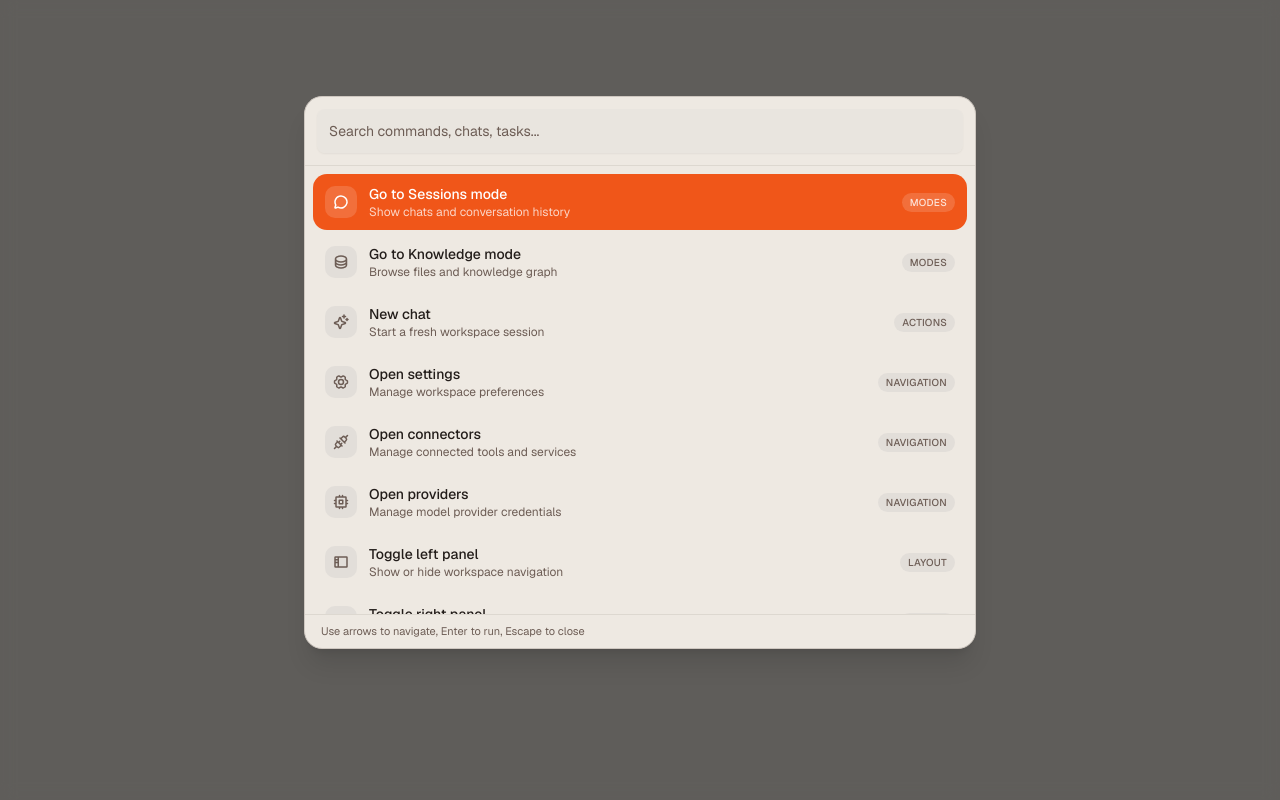
Test: WorkspaceCommandPalette › hides task commands and task search results when tasks are unavailable
This screenshot has width=1280, height=800.
Type "run" into the field with placeholder "Search commands, chats, tasks...".
click(640, 131); type("run")  # box [317,109,963,153]
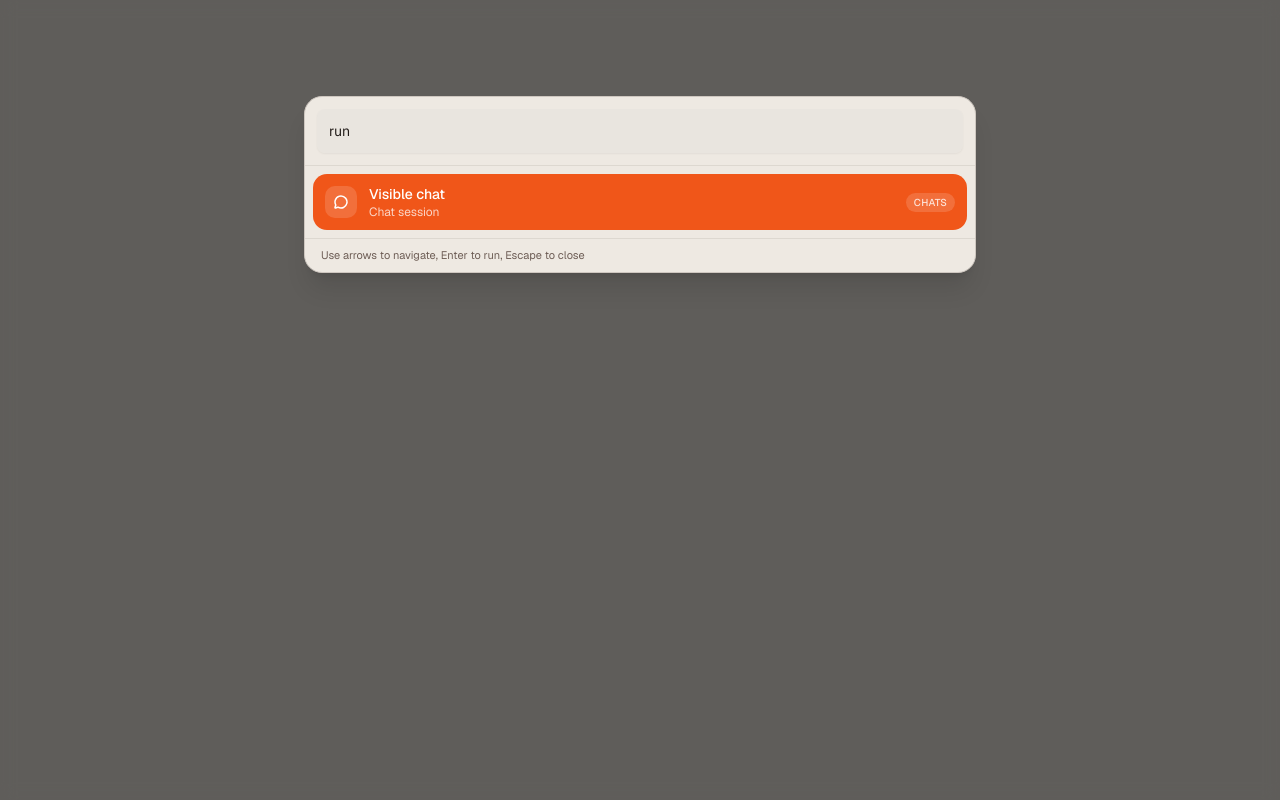
Expected: the text "Visible chat" is shown, [369,185,445,203]
